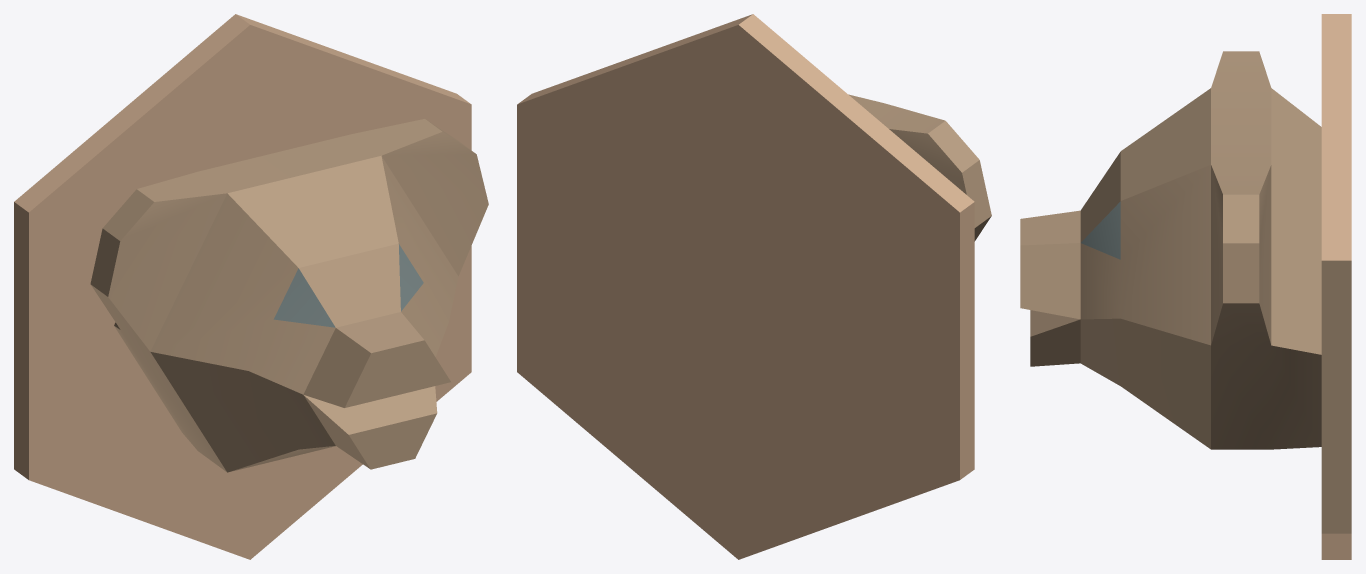
Rendered from bear.glb.
The picture shows the model from 3 angles, left to right: view 1: azimuth 30°, elevation 25°; view 2: azimuth 150°, elevation 25°; view 3: azimuth 270°, elevation 25°; orthographic projection. The views are drawn at different scales.
Parts seen in each view (by area): view 1: bear; view 2: bear; view 3: bear.
Boxes of the visible parts, x1,y1,x2,y2 form: bear: (14, 14, 488, 559); bear: (517, 14, 991, 559); bear: (1020, 14, 1351, 559).
Bounding box in the file's own units: 0.3897 × 0.45 × 0.2475.
